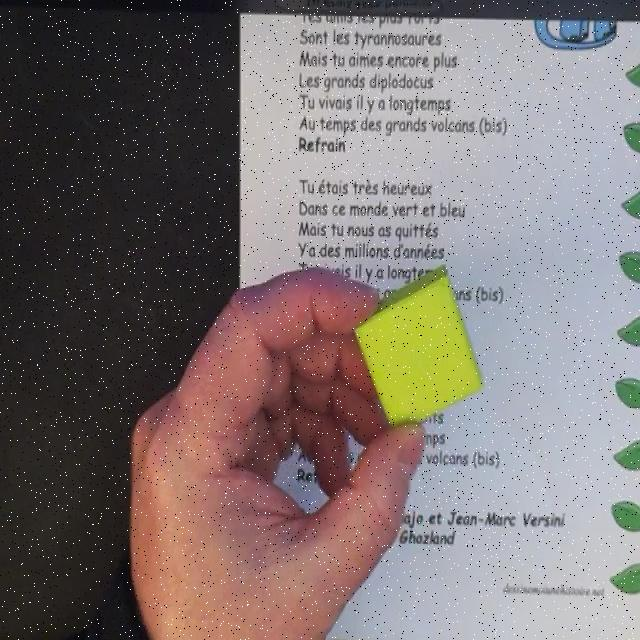square: (353, 264, 484, 433)
